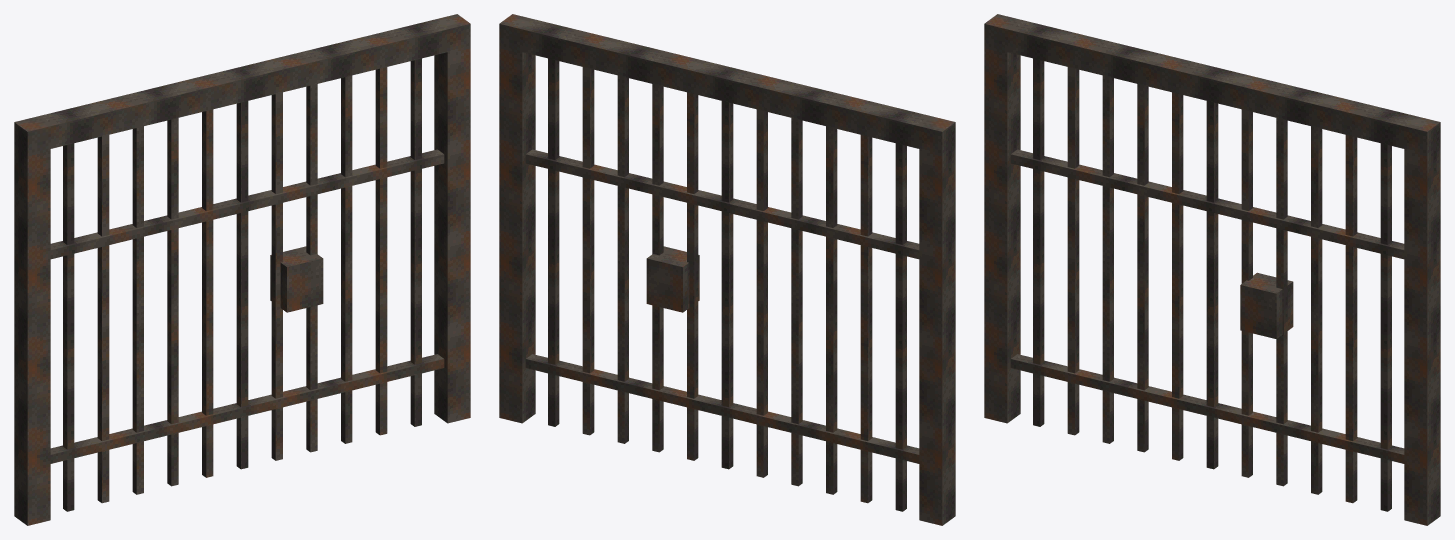
Rendered from reja.obj.
3 renders of one model, left to right at view 1: azimuth 30°, elevation 25°; view 2: azimuth 150°, elevation 25°; view 3: azimuth 330°, elevation 25°, orthographic.
Parts seen in each view (by area): view 1: reja; view 2: reja; view 3: reja.
Part boxes in pixels (bbox=[...]): reja: bbox=[14, 14, 470, 525]; reja: bbox=[499, 14, 955, 525]; reja: bbox=[984, 14, 1440, 525].
Size of the model in its own units: 3.06 by 2.6 by 0.2.
Materials: 1 (1 with a texture image).
